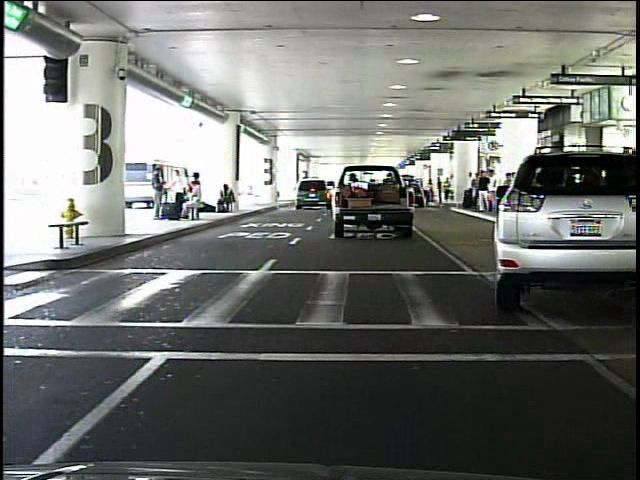person: (148, 165, 169, 221), (475, 167, 492, 214), (434, 174, 445, 205)
